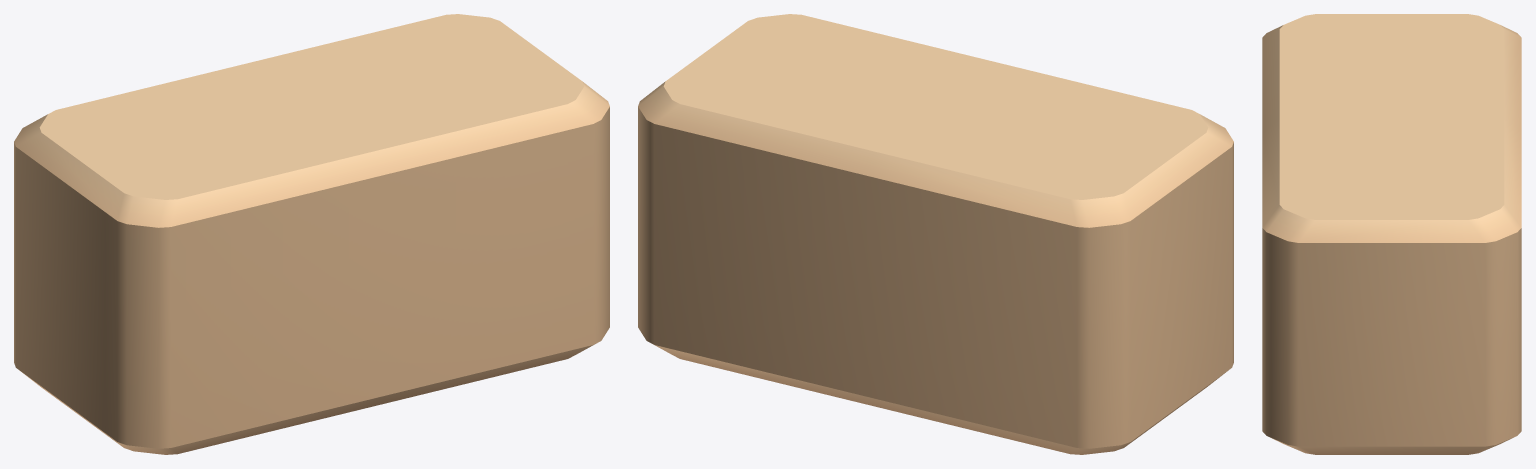
Rendered from Stone_Block_1x2.fbx.
3 renders of one model, left to right at view 1: azimuth 30°, elevation 25°; view 2: azimuth 150°, elevation 25°; view 3: azimuth 270°, elevation 25°, orthographic. The views are drawn at different scales.
Visible parts, largest first — view 1: Stone Block 1x2; view 2: Stone Block 1x2; view 3: Stone Block 1x2.
Part boxes in pixels (x1,y1,x2,y2): Stone Block 1x2: (14,14,609,454); Stone Block 1x2: (638,14,1233,454); Stone Block 1x2: (1262,14,1521,454).
Bounding box in the file's own units: 199 × 98.56 × 98.56.
